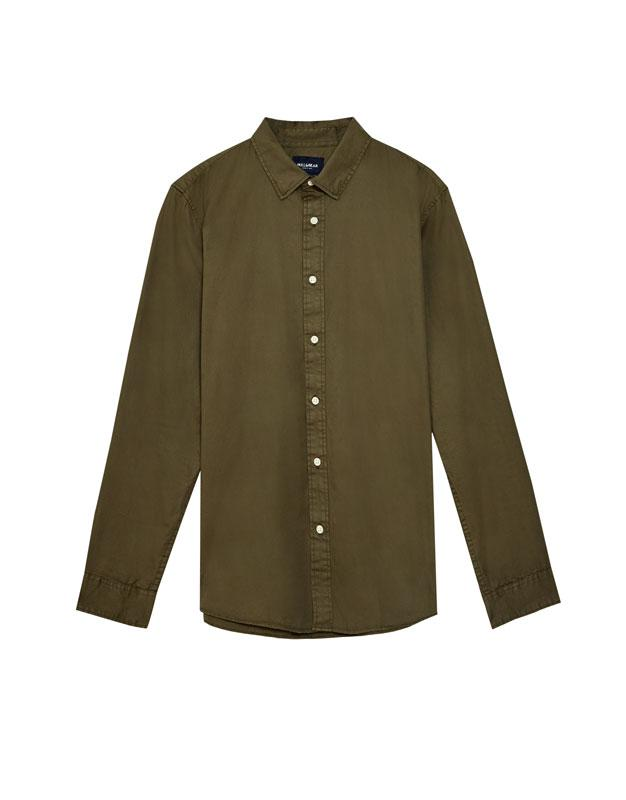teeshirt: (74, 114, 581, 650)
